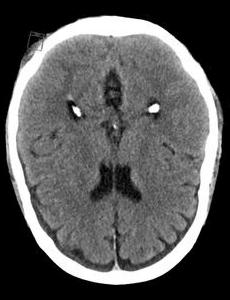Normal_Brain: (1, 1, 230, 300)
